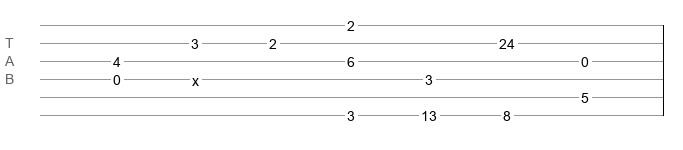0: (113, 72, 121, 82), (581, 54, 589, 64)
13: (421, 108, 437, 118)
2: (269, 36, 277, 46), (347, 18, 355, 28)
24: (499, 36, 515, 46)
3: (191, 36, 199, 46), (347, 108, 355, 118), (425, 72, 433, 82)
4: (113, 54, 121, 64)
5: (581, 90, 589, 100)
6: (347, 54, 355, 64)
8: (503, 108, 511, 118)
x: (192, 73, 199, 81)
